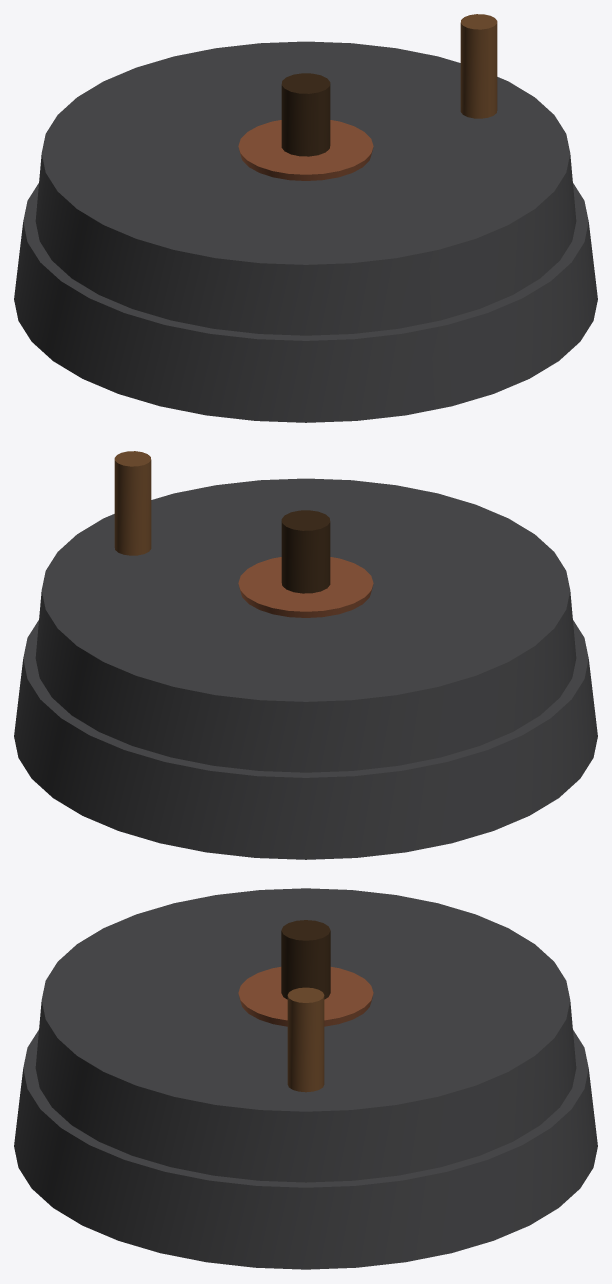
The picture shows the model from 3 angles, top to bottom: view 1: azimuth 30°, elevation 25°; view 2: azimuth 150°, elevation 25°; view 3: azimuth 270°, elevation 25°; orthographic projection.
Parts seen in each view (by area): view 1: OBJ-004 — DEMO NON_VALIDE; view 2: OBJ-004 — DEMO NON_VALIDE; view 3: OBJ-004 — DEMO NON_VALIDE.
Boxes of the visible parts, box(x1,y1,x2,y2) form: OBJ-004 — DEMO NON_VALIDE: box(14, 14, 597, 422); OBJ-004 — DEMO NON_VALIDE: box(14, 451, 597, 859); OBJ-004 — DEMO NON_VALIDE: box(14, 888, 597, 1269).
Bounding box in the file's own units: 2 × 0.8895 × 2.
